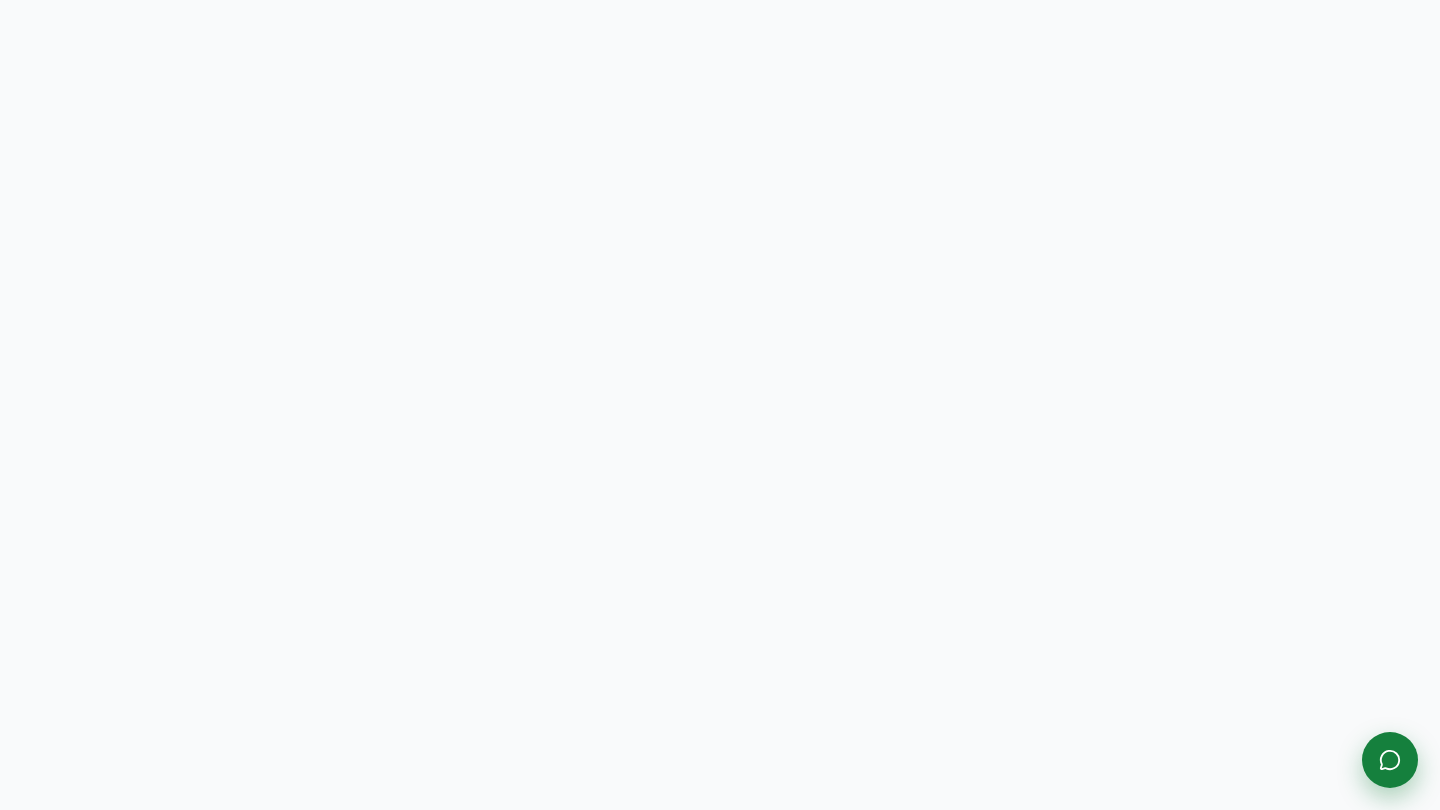
it: Driver chatbot › shows the grounded answer returned by the backend
Step 1. Click the button named "Open Chatbot" → click(1390, 760), box [1362,732,1418,788]
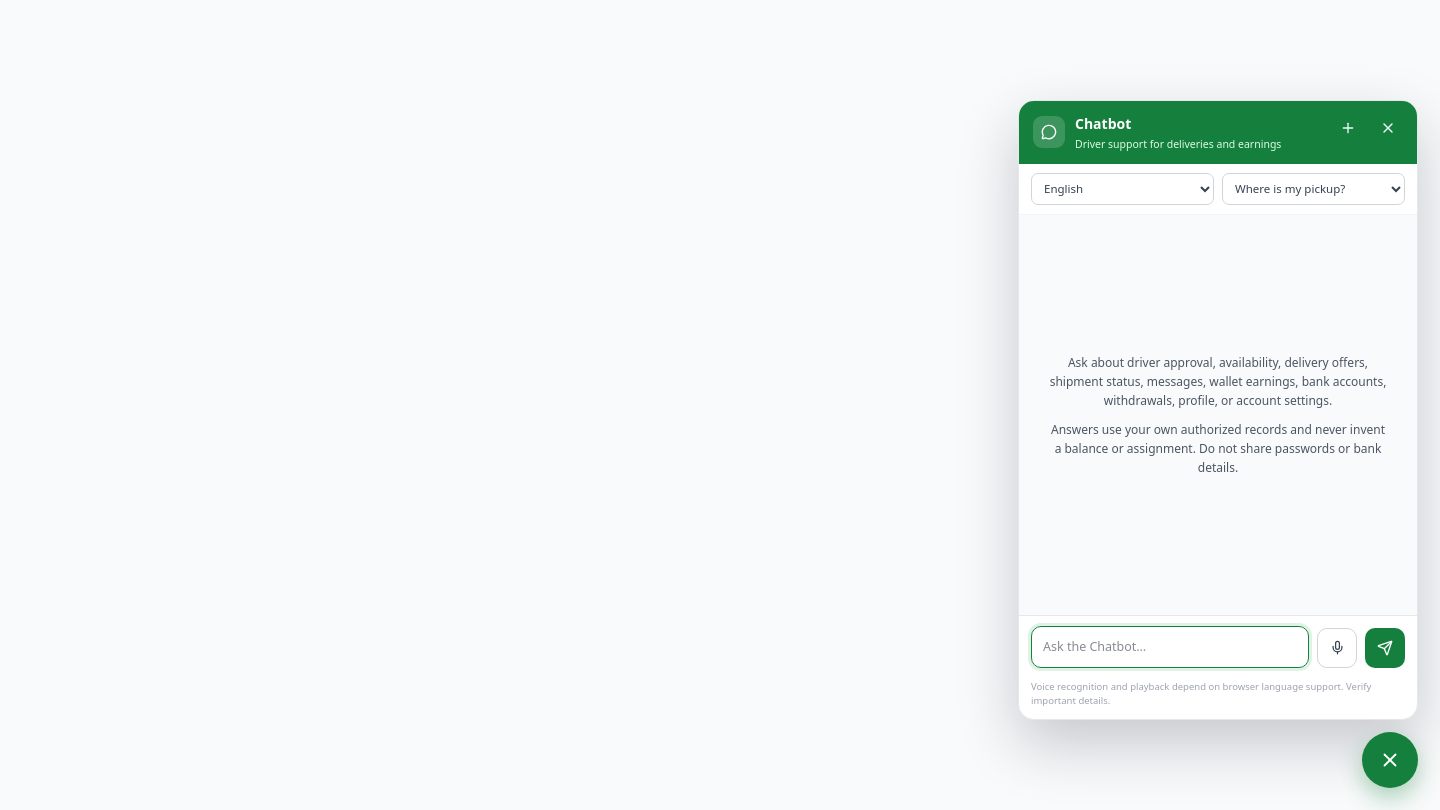
expect the text "Answers use your own authorized records" is shown: met, box [1051,421,1385,476]
Step 2. Type "Where is my pickup?" into the text box named "Chatbot message" → (1170, 647), box [1031,626,1309,668]
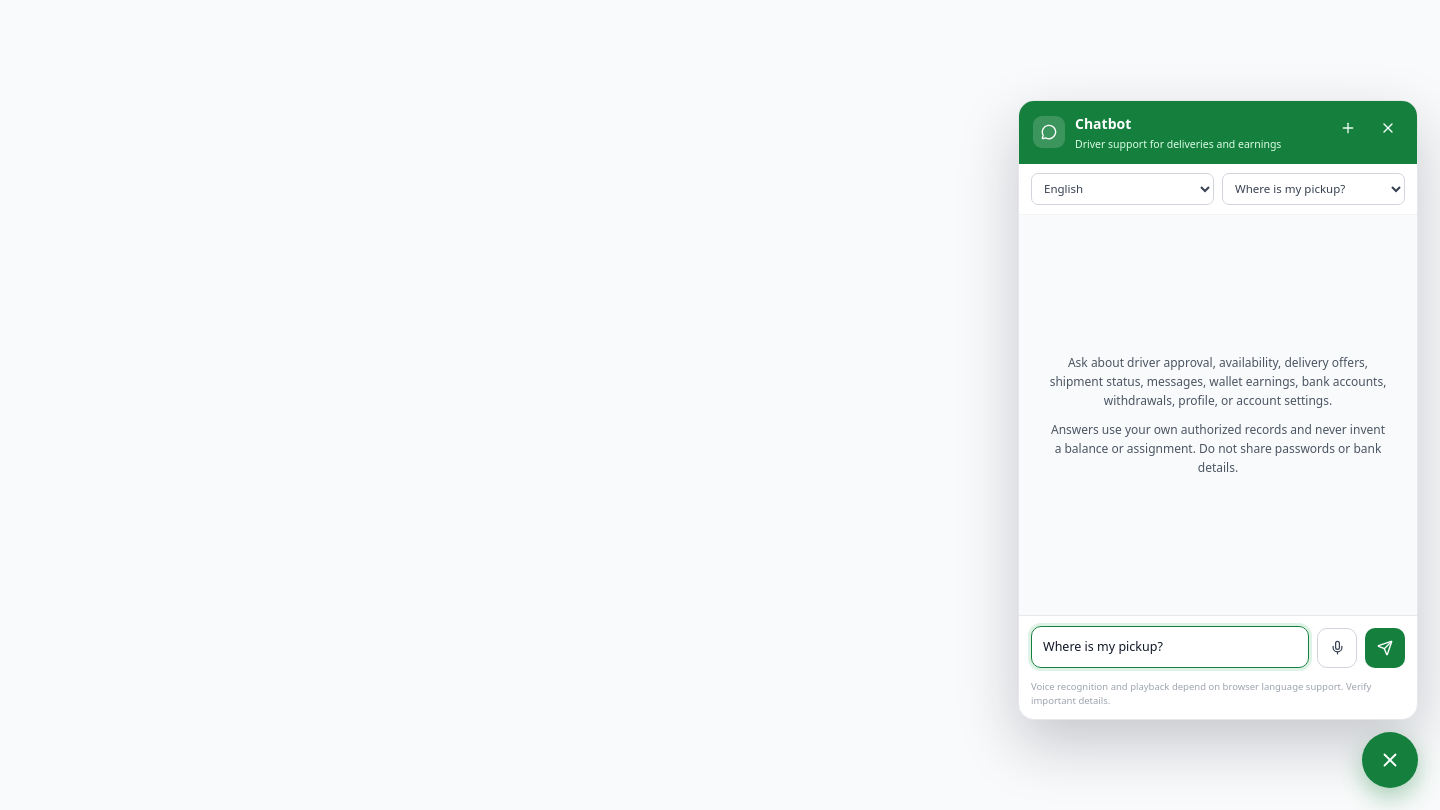
Step 3. Click the button named "Send message" → click(1385, 648), box [1365,628,1405,668]
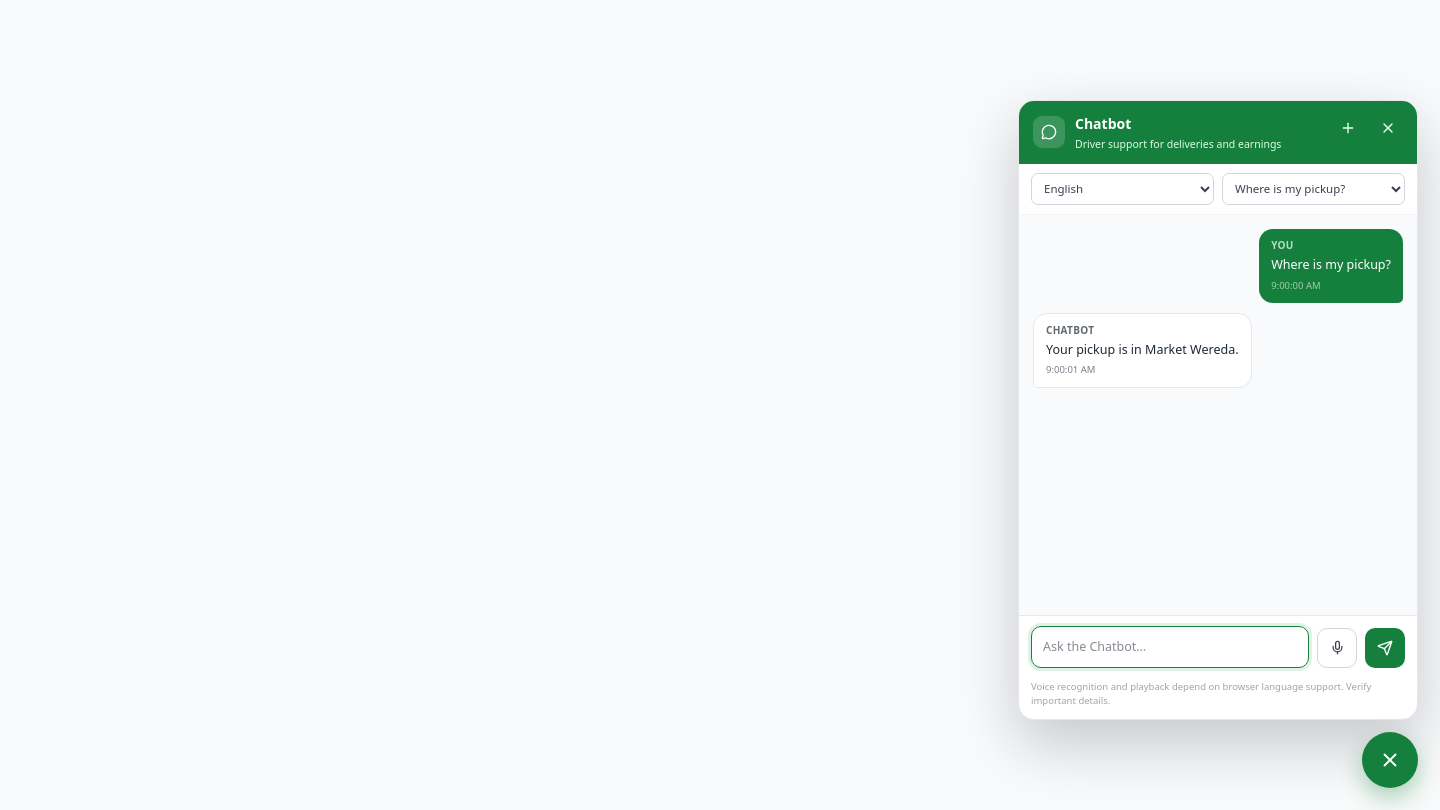
expect the text "Chatbot Your pickup is in Market Wereda. 9:00:01 AM" is shown: met, box [1033,312,1252,388]
